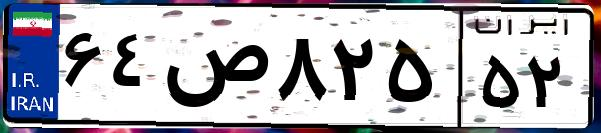2: (330, 28, 385, 110), (525, 38, 570, 115)
4: (110, 28, 158, 98)
5: (385, 28, 445, 110), (475, 38, 525, 113)
6: (57, 26, 110, 100)
8: (270, 28, 330, 110)
ص: (158, 20, 270, 120)
